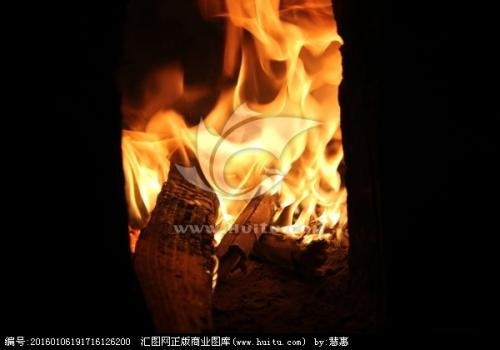fire: (125, 0, 353, 257)
